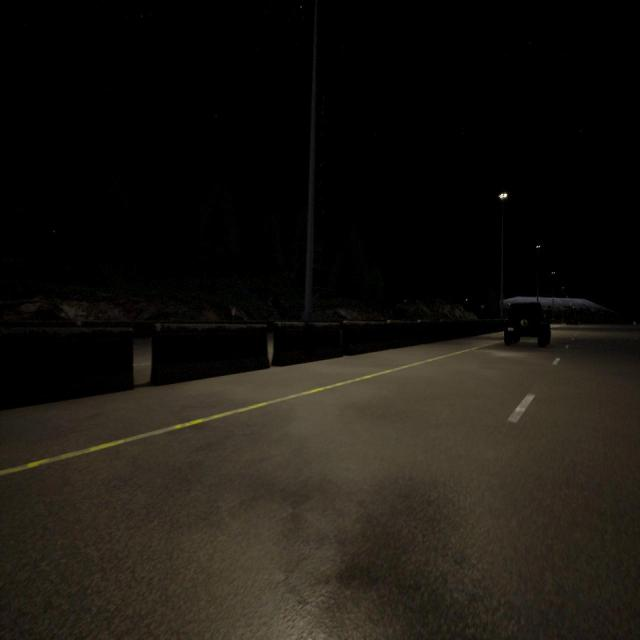Vehicle: (503, 300, 552, 348)
